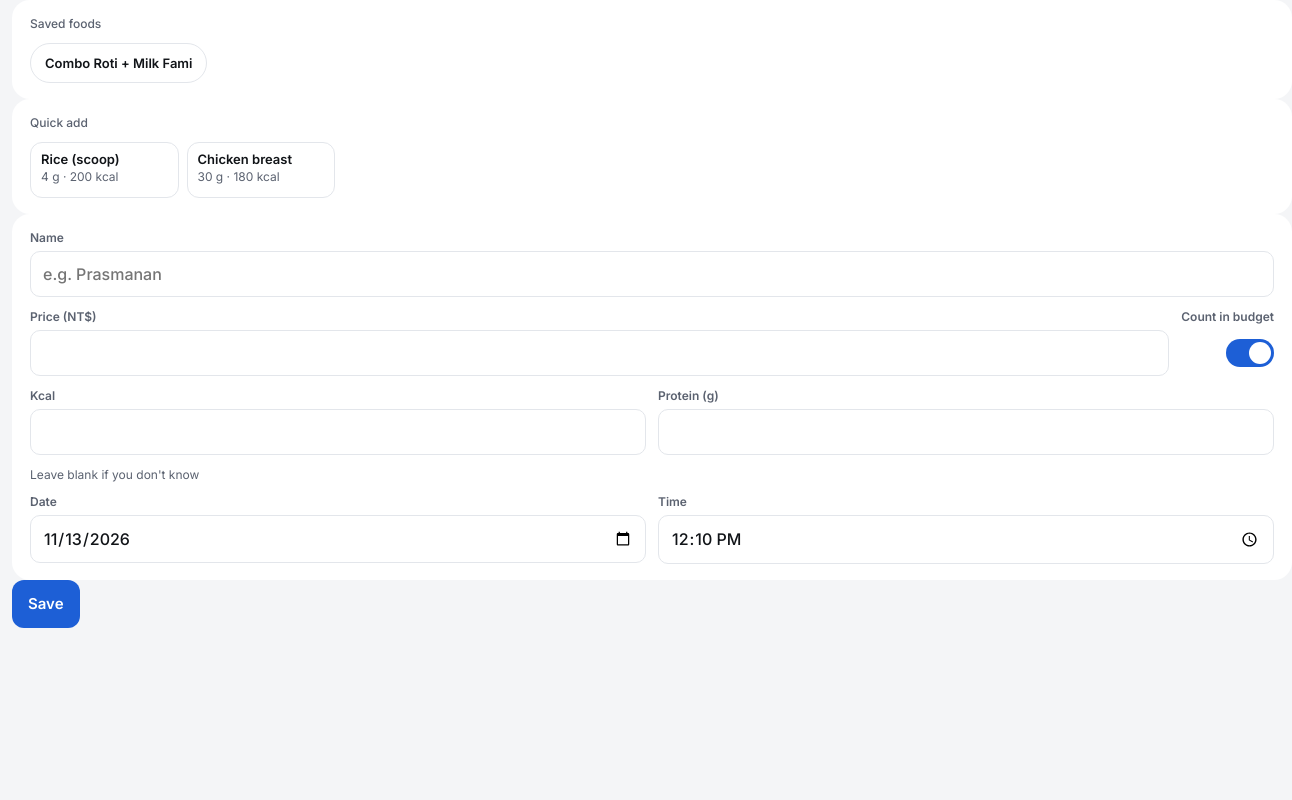
quick-add keeps a value typed by hand and adds to it
Type "100" into the field labelled "Kcal" at (338, 432), box x1=30 y1=409 x2=646 y2=455
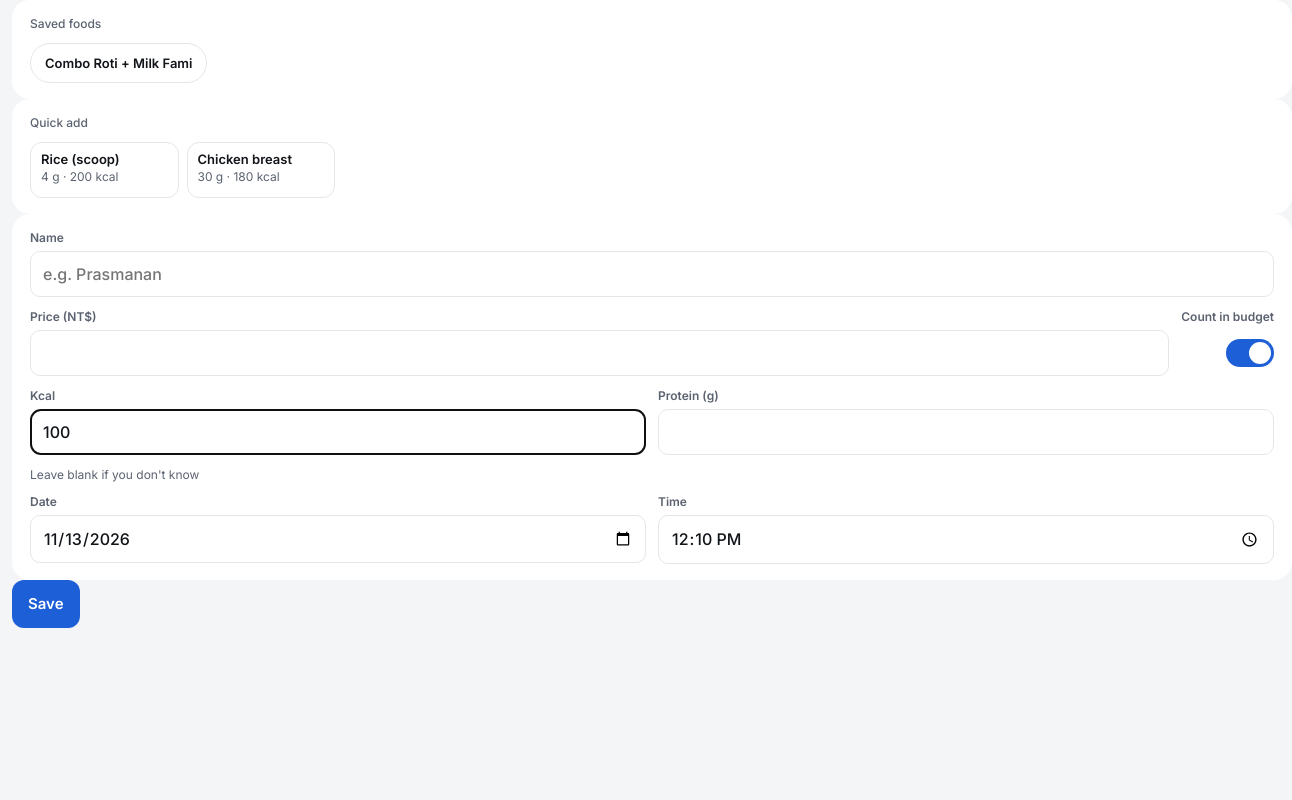
Click the button "Rice (scoop) 4 g · 200 kcal" at (104, 170), box x1=30 y1=142 x2=178 y2=198
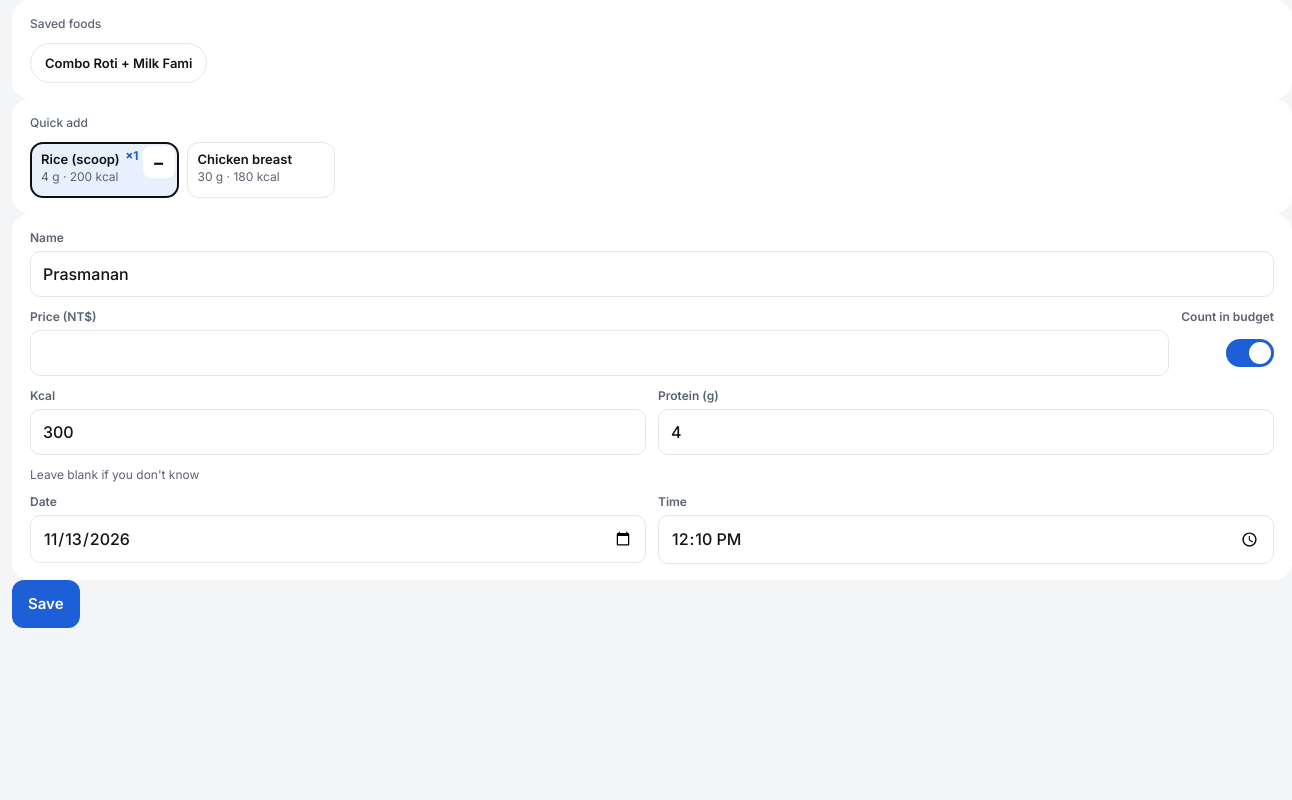
Expected: the field labelled "Kcal" holds "300", x1=30 y1=409 x2=646 y2=455
